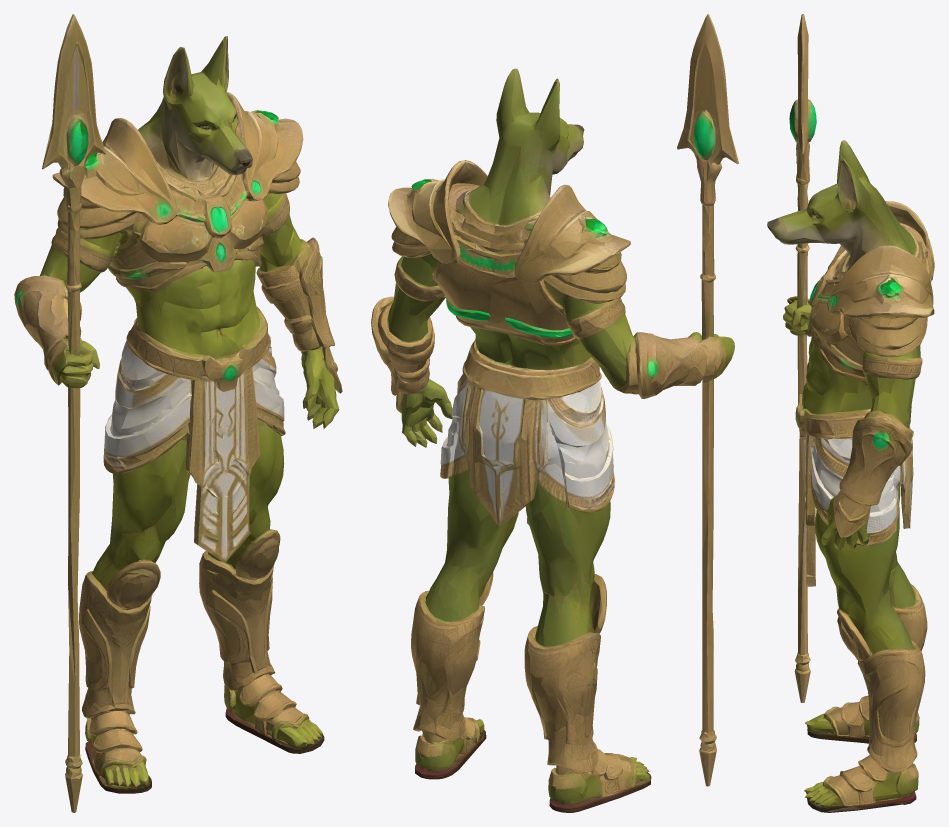
File: et_guardspear.glb
3 views of the same model, side by side, from view 1: azimuth 30°, elevation 25°; view 2: azimuth 150°, elevation 25°; view 3: azimuth 270°, elevation 25° (orthographic). The views are drawn at different scales.
Bounding box in the file's own units: 0.8116 × 1.9 × 0.4189.
Materials: 1 (1 with a texture image).
